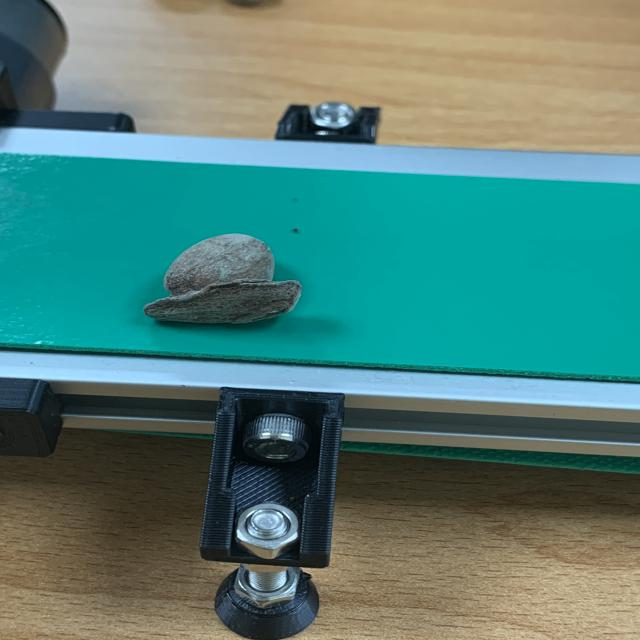Agglomerated_cocoabeans: (92, 214, 369, 383)
